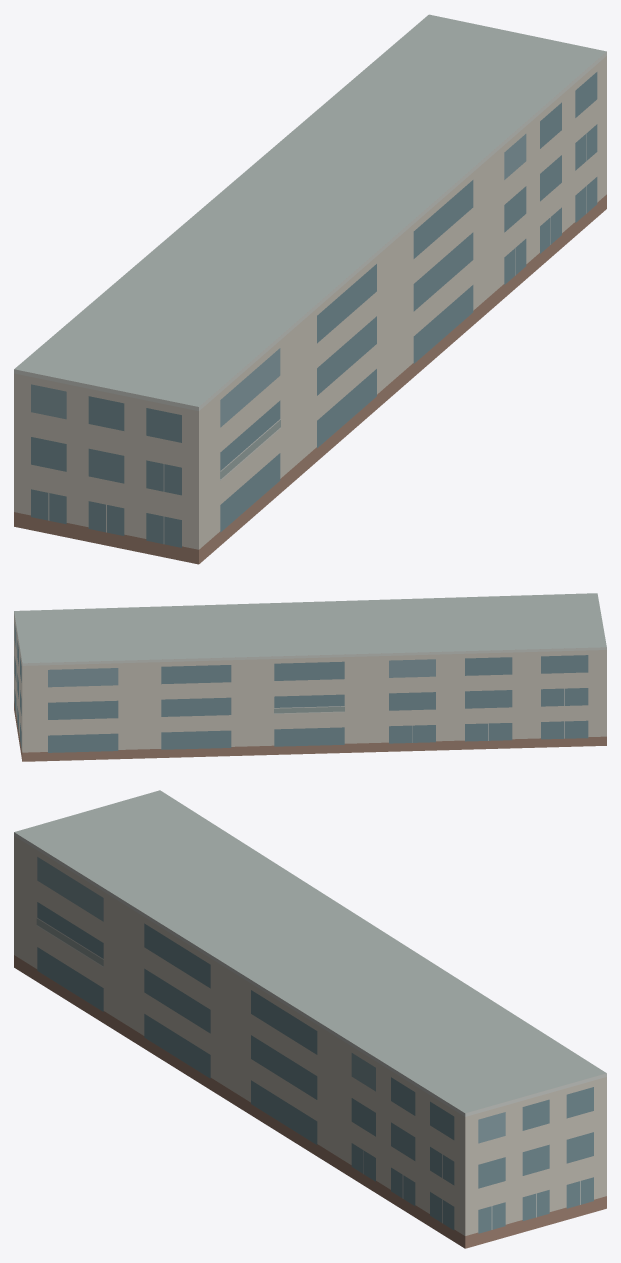
The model's file is survey-upis-32739298.glb.
3 views of the same model, one above another, from view 1: azimuth 30°, elevation 25°; view 2: azimuth 150°, elevation 25°; view 3: azimuth 270°, elevation 25° (orthographic). The views are drawn at different scales.
Visible parts, largest first — view 1: survey-upis-32739298.tmp; view 2: survey-upis-32739298.tmp; view 3: survey-upis-32739298.tmp.
Boxes of the visible parts, bbox=[...] form: survey-upis-32739298.tmp: bbox=[14, 14, 606, 564]; survey-upis-32739298.tmp: bbox=[14, 593, 606, 761]; survey-upis-32739298.tmp: bbox=[14, 790, 606, 1248].
Size of the model in its own units: 46.85 by 9.15 by 36.32.
